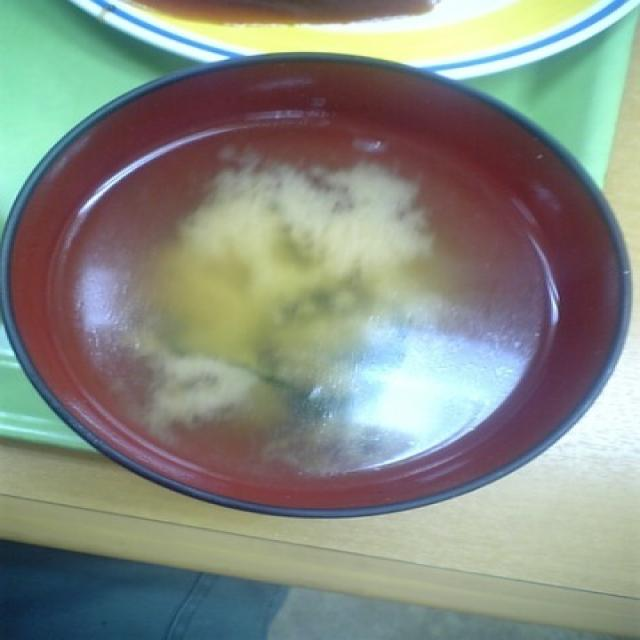汤锅炖物: (0, 45, 629, 505)
